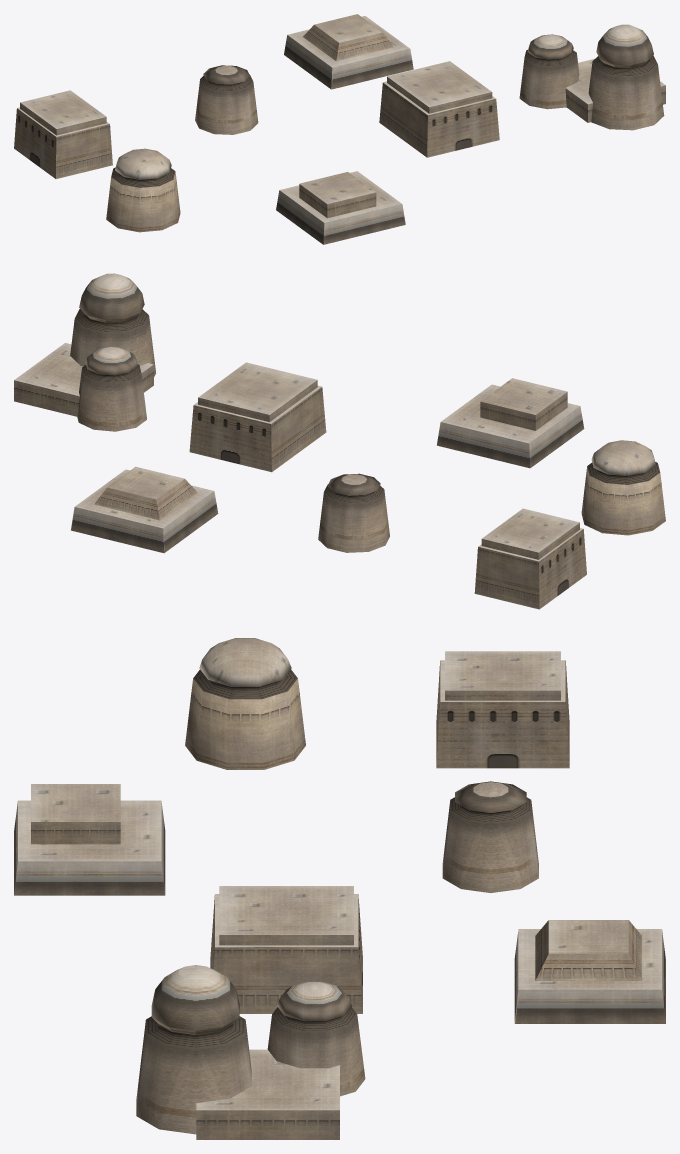
File: Dsrt04.fbx
The picture shows the model from 3 angles, top to bottom: view 1: azimuth 30°, elevation 25°; view 2: azimuth 150°, elevation 25°; view 3: azimuth 270°, elevation 25°; orthographic projection. The views are drawn at different scales.
Visible parts, largest first — view 1: Dsrt04; view 2: Dsrt04; view 3: Dsrt04.
Part boxes in pixels (x1,y1,x2,y2): Dsrt04: (14,14,665,244); Dsrt04: (14,273,665,609); Dsrt04: (14,638,665,1139).
Size of the model in its own units: 883 by 138 by 581.
